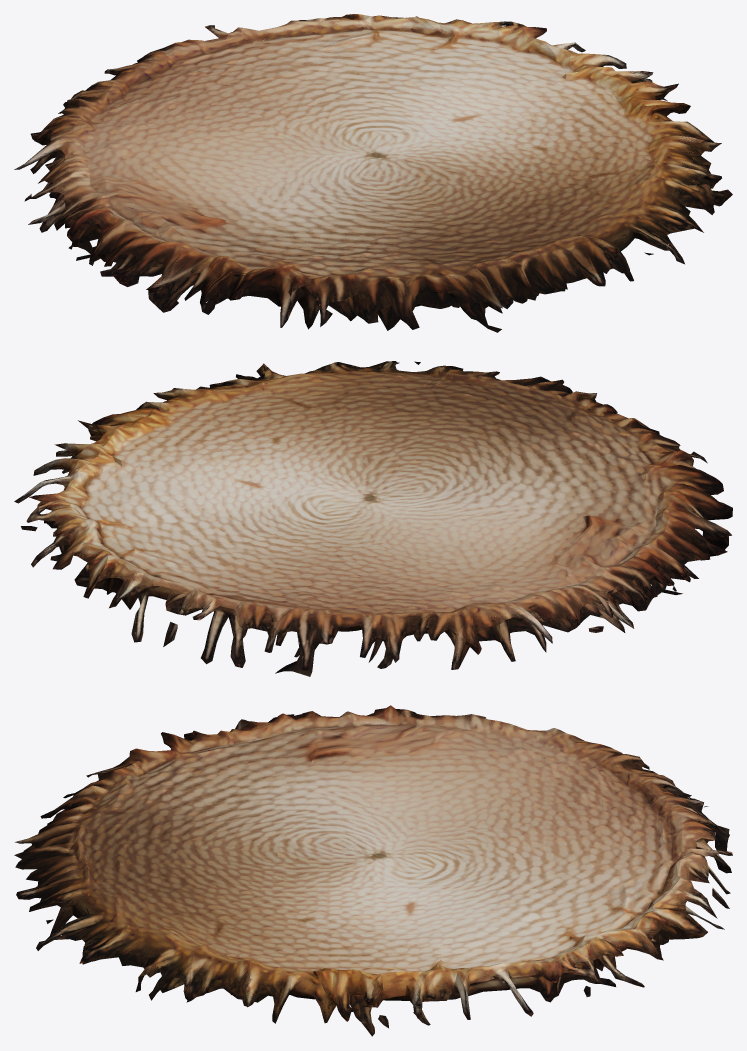
File: woven-grass-playmat-new-style.jpeg.glb
The picture shows the model from 3 angles, top to bottom: view 1: azimuth 30°, elevation 25°; view 2: azimuth 150°, elevation 25°; view 3: azimuth 270°, elevation 25°; orthographic projection. The views are drawn at different scales.
Parts seen in each view (by area): view 1: world; view 2: world; view 3: world.
Part boxes in pixels (<box>): world: <box>14,14,732,332</box>; world: <box>14,361,732,676</box>; world: <box>14,705,732,1036</box>.
Bounding box in the file's own units: 0.9998 × 0.0816 × 0.9983.
Materials: 1 (1 with a texture image).
